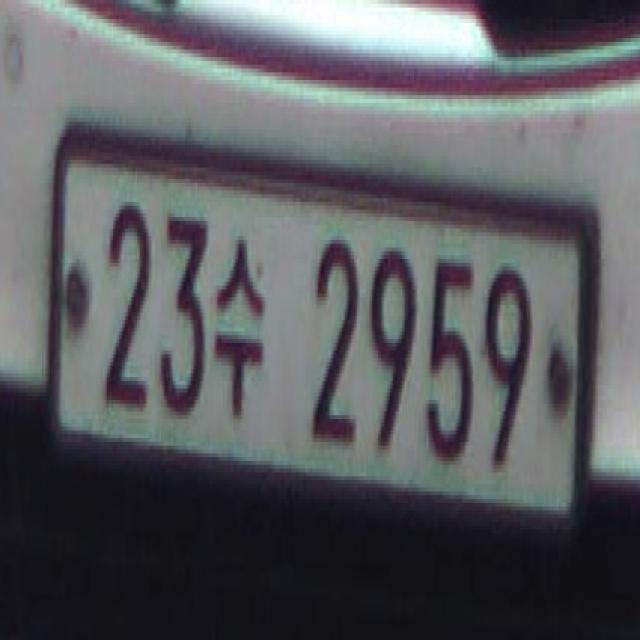2: (304, 225, 366, 455), (98, 194, 156, 428)
3: (156, 199, 212, 440)
5: (422, 240, 480, 483)
9: (481, 234, 544, 486), (364, 234, 425, 461)
license_plate: (49, 125, 593, 529)
su: (212, 223, 270, 432)
